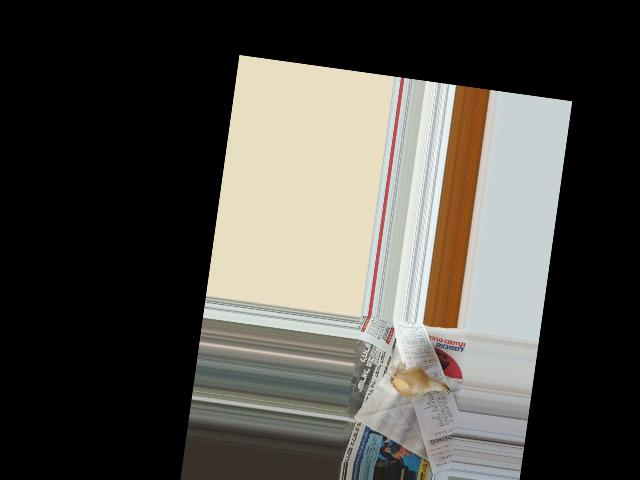onion: (390, 365, 437, 402)
